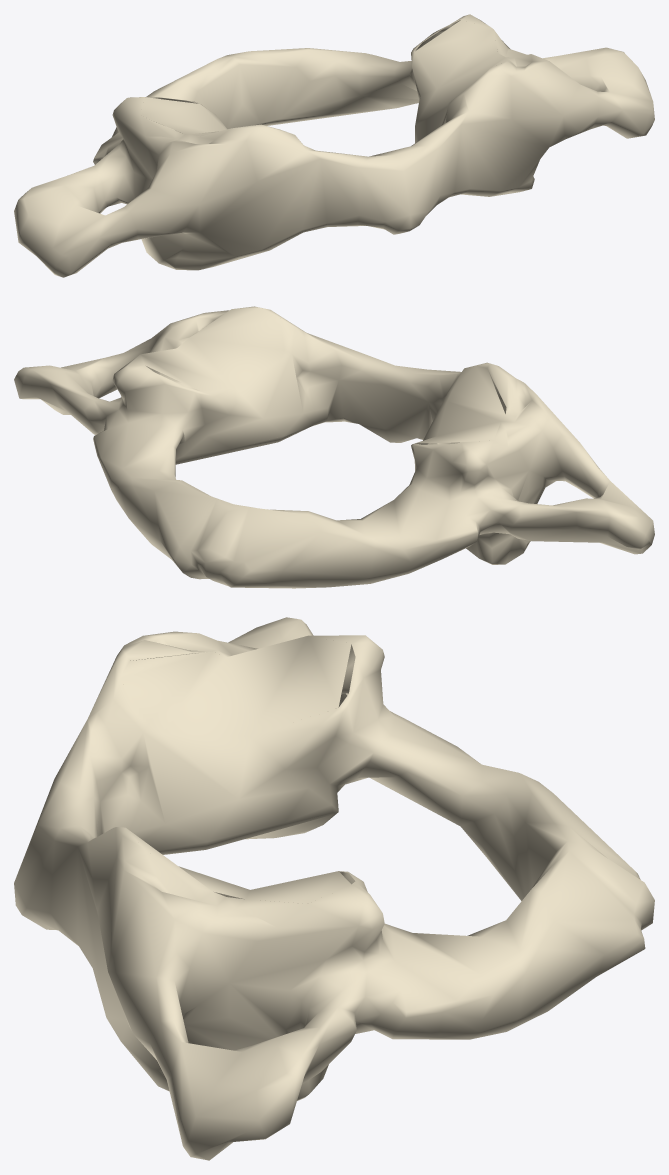
File: esqueleto-atlas-c1.glb
3 renders of one model, top to bottom at view 1: azimuth 30°, elevation 25°; view 2: azimuth 150°, elevation 25°; view 3: azimuth 270°, elevation 25°, orthographic. The views are drawn at different scales.
Visible parts, largest first — view 1: Atlas (C1); view 2: Atlas (C1); view 3: Atlas (C1).
Part boxes in pixels (x1=…): Atlas (C1): x1=14, y1=14, x2=654, y2=277; Atlas (C1): x1=14, y1=306, x2=654, y2=588; Atlas (C1): x1=14, y1=617, x2=654, y2=1160.
Size of the model in its own units: 0.0861 by 0.0196 by 0.0491.
